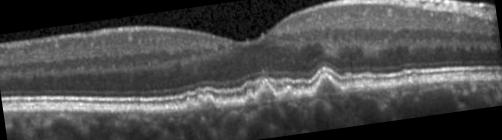retinal_drusen: (315, 75, 342, 95), (256, 82, 277, 103), (284, 88, 297, 101), (244, 94, 256, 106), (205, 97, 216, 110), (185, 100, 196, 113), (400, 75, 411, 87), (411, 74, 418, 85), (197, 97, 205, 106)
